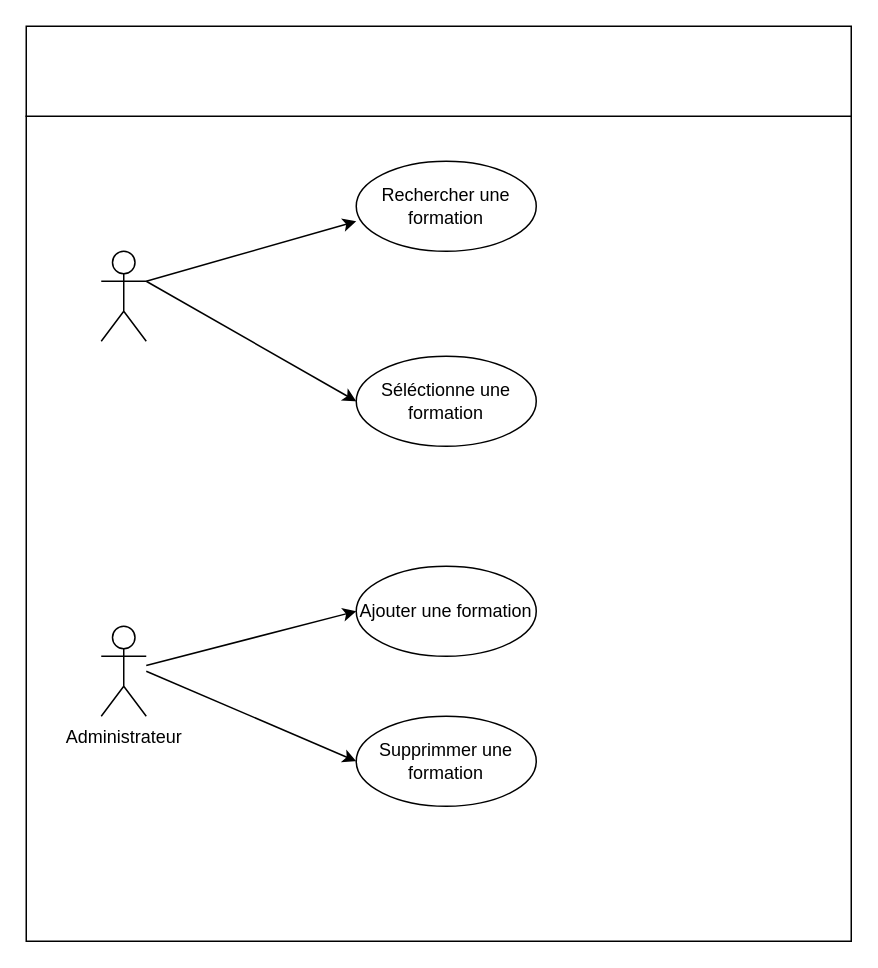
The diagram is 878 pixels wide and 968 high, and some of its shapes have lost their labels. The shapes that lost their labels are listed below. From the top down, each one's centre as x and y in pixels, then its label:
(438,70): Application d'achat de formation
(123,295): Utilisateur
